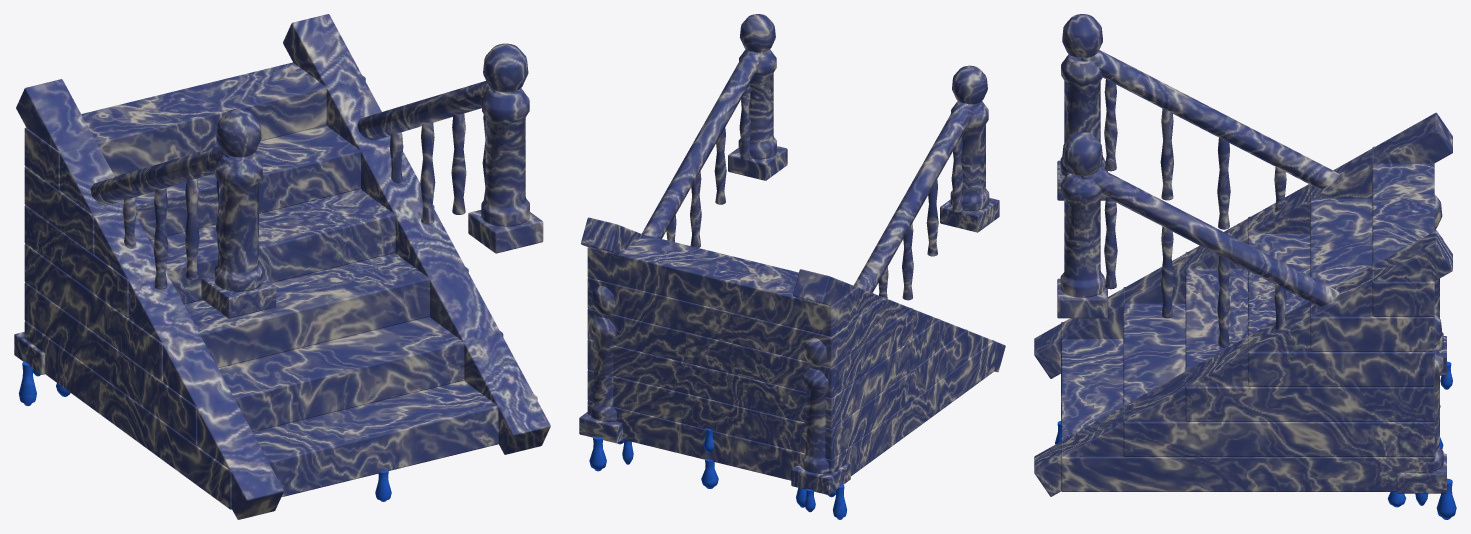
Rendered from stoop.glb.
3 renders of one model, left to right at view 1: azimuth 30°, elevation 25°; view 2: azimuth 150°, elevation 25°; view 3: azimuth 270°, elevation 25°, orthographic. The views are drawn at different scales.
Parts seen in each view (by area): view 1: stoop; view 2: stoop; view 3: stoop.
Part boxes in pixels (x1,y1,x2,y2): stoop: [14, 14, 550, 519]; stoop: [579, 14, 1005, 519]; stoop: [1034, 14, 1456, 519].
Bounding box in the file's own units: 1.34 × 1.7 × 1.68.
Materials: 1 (1 with a texture image).
